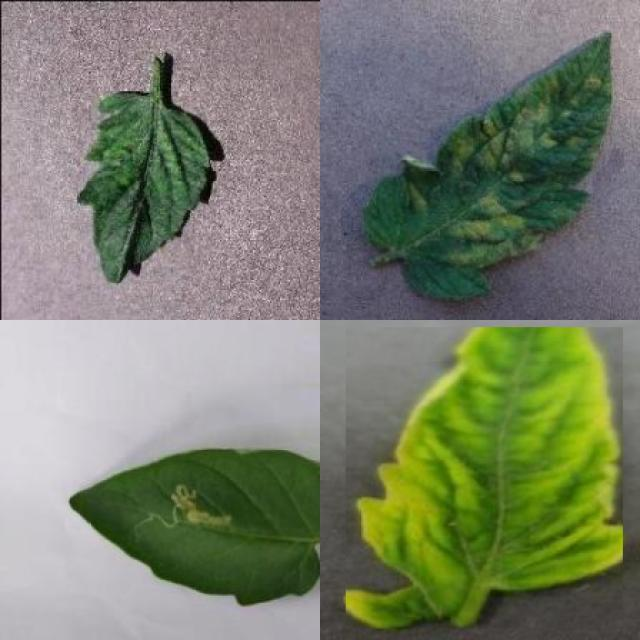Leaf Miner: (69, 447, 320, 607)
Leaf Mold: (363, 33, 611, 297)
Mosaic Virus: (77, 90, 209, 283)
Yellow Leaf Curl Virus: (346, 327, 623, 629)
